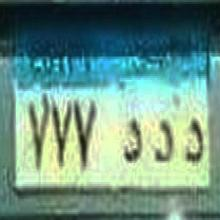7: (72, 96, 98, 167), (27, 97, 49, 172), (51, 102, 73, 171)
daal: (183, 112, 205, 165), (153, 114, 174, 167), (122, 117, 143, 167)
